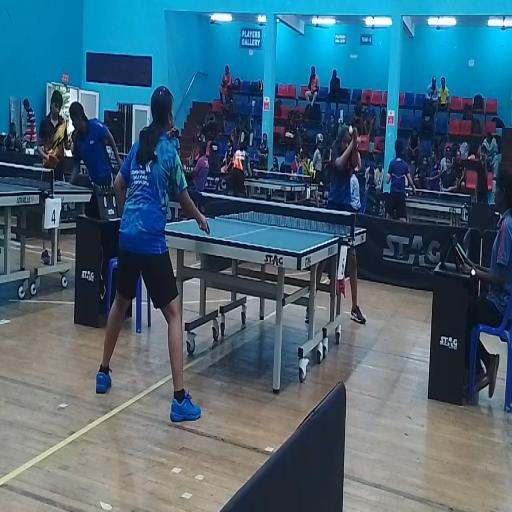ball: (349, 126, 353, 135)
